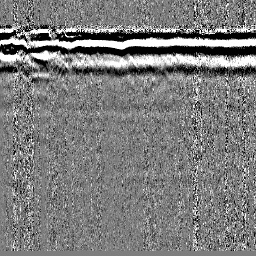cavity: (118, 51, 137, 67)
